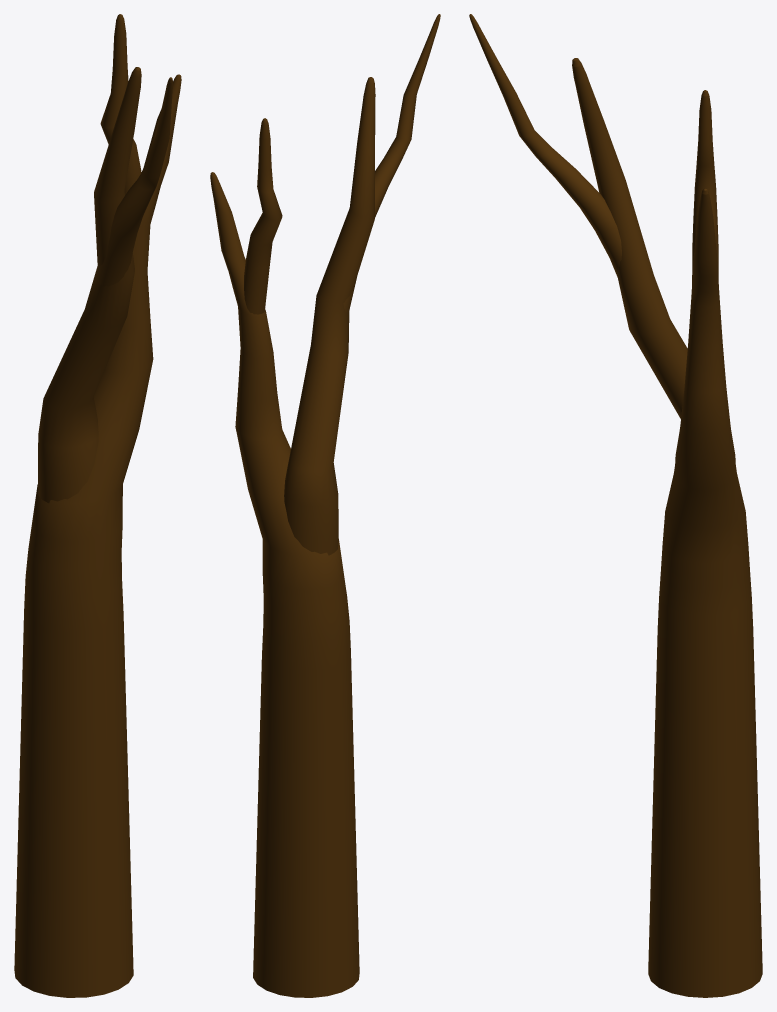
File: shuzhi2.fbx
The picture shows the model from 3 angles, left to right: view 1: azimuth 30°, elevation 25°; view 2: azimuth 150°, elevation 25°; view 3: azimuth 270°, elevation 25°; orthographic projection. The views are drawn at different scales.
Visible parts, largest first — view 1: polySurface4; view 2: polySurface4; view 3: polySurface4.
Part boxes in pixels (x1,y1,x2,y2): polySurface4: [14, 14, 181, 997]; polySurface4: [210, 14, 440, 997]; polySurface4: [469, 14, 762, 997].
Bounding box in the file's own units: 5.16 × 30.79 × 8.64.
